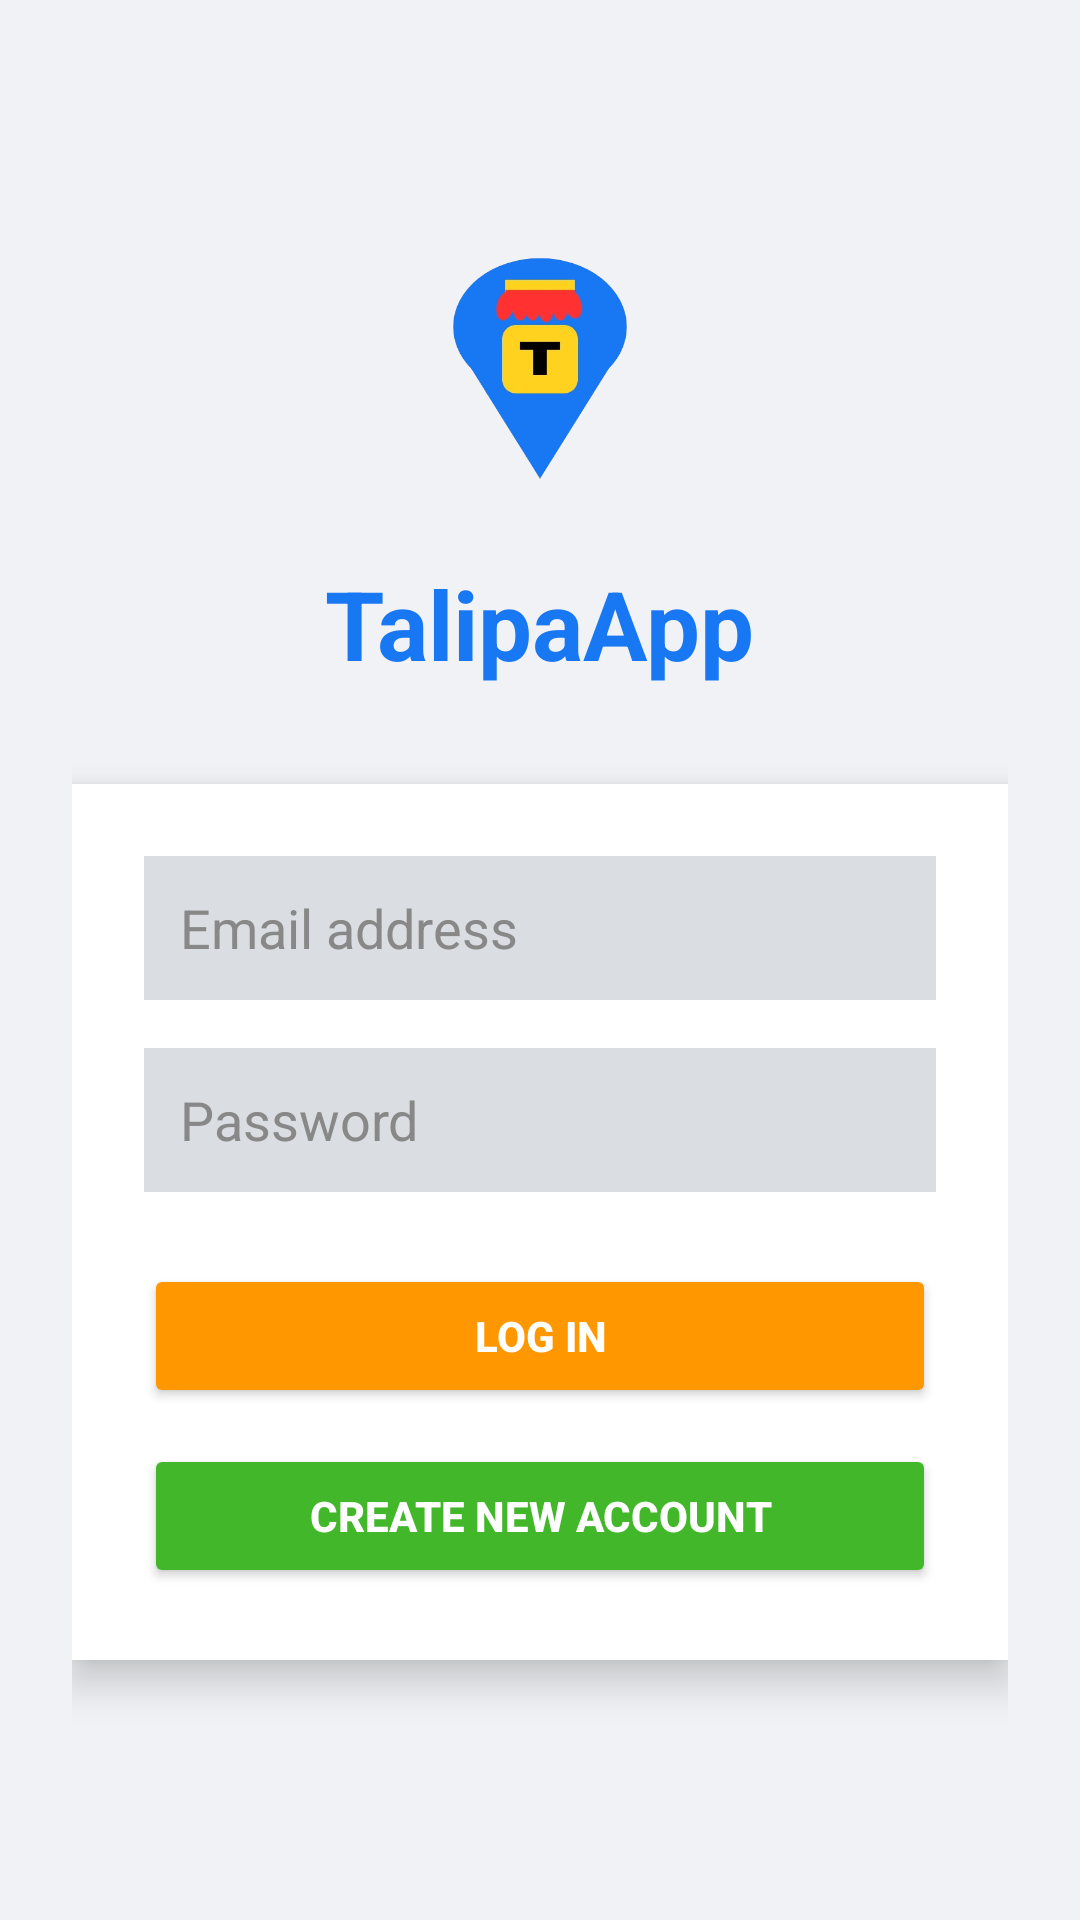

Icon click points for this 1080x1920 phone screenshot, format (x=x, y=y):
favicon: (x=540, y=368)
